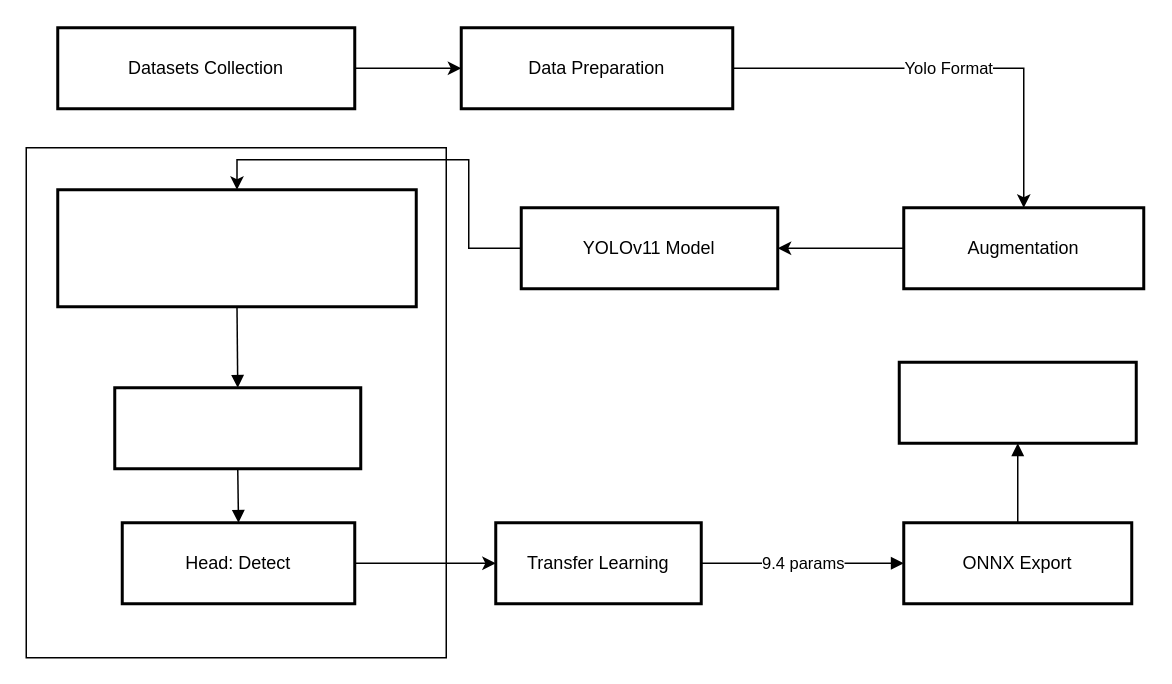
Some shapes in this 1172 by 684 pixel diagram are drawn without their labels. The centre of each missing label's shape, as x and y in pixels:
Model Backbone: CSPDarkNetv7: pixel 236 248
Neck: PANetv2: pixel 237 428
Optimized Inference: pixel 1017 402
